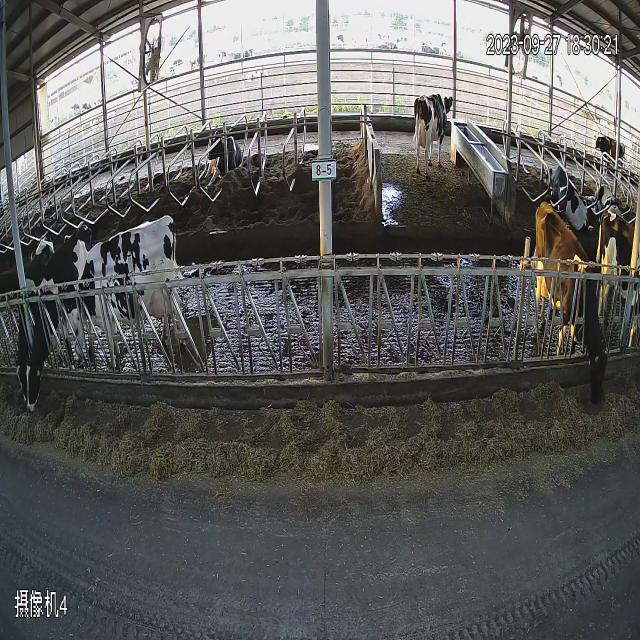feeding: (70, 189, 208, 376), (528, 180, 616, 415), (26, 213, 100, 419), (13, 220, 59, 414)
lying down: (541, 131, 598, 233), (202, 100, 248, 200), (590, 159, 626, 232)
standing: (597, 186, 640, 361), (408, 74, 459, 178)
